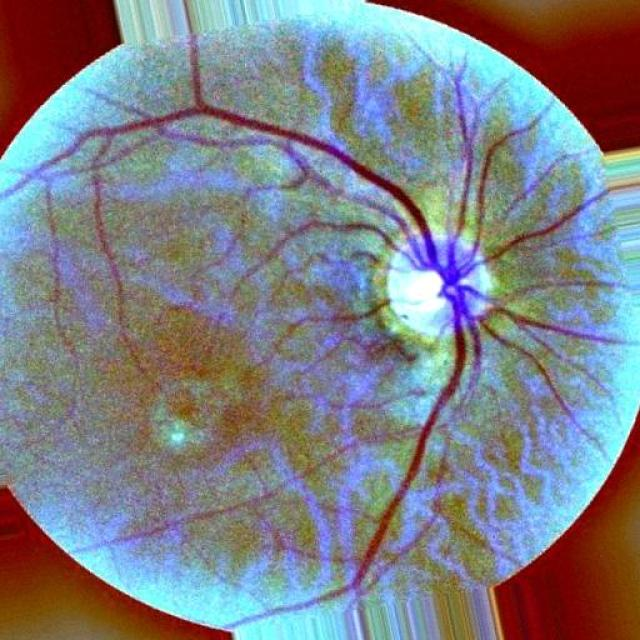Nerves: (49, 34, 619, 590)
Optic Disk: (386, 232, 492, 364)
